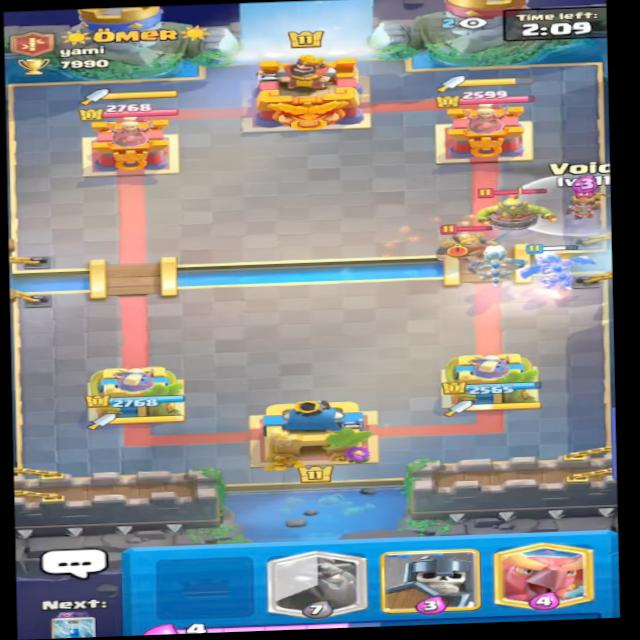goblin-demolisher: (469, 184, 550, 235)
knight: (422, 218, 503, 266)
little-prince: (560, 183, 604, 227)
